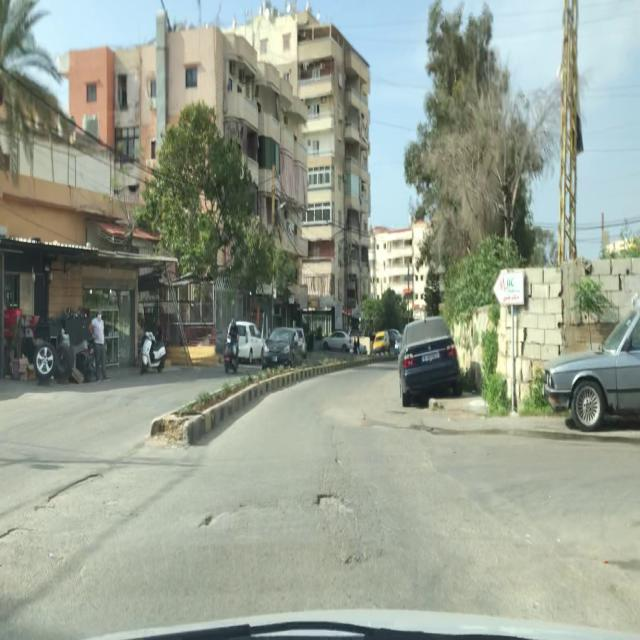Pothole: (45, 471, 106, 504), (196, 500, 251, 530), (313, 489, 357, 515), (1, 524, 36, 543)
